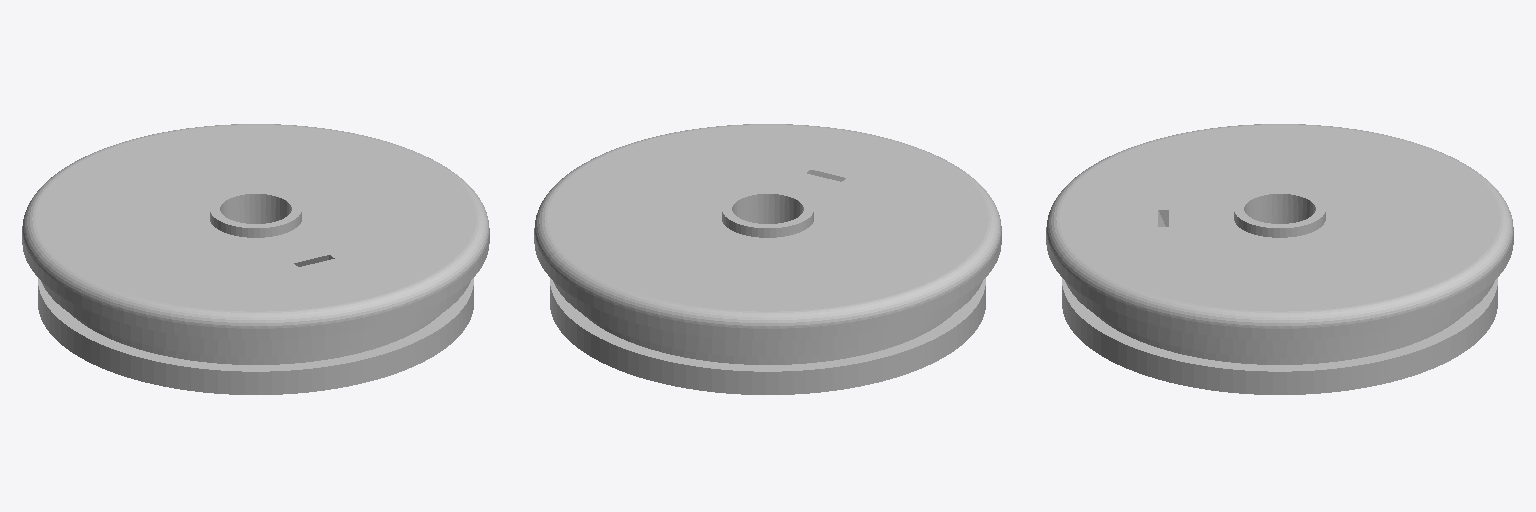
The model's file is EndCap.obj.
The picture shows the model from 3 angles: view 1: azimuth 30°, elevation 25°; view 2: azimuth 150°, elevation 25°; view 3: azimuth 270°, elevation 25°; orthographic projection.
Parts seen in each view (by area): view 1: EndCap_End_Cap_v10; view 2: EndCap_End_Cap_v10; view 3: EndCap_End_Cap_v10.
Boxes of the visible parts, x1,y1,x2,y2 form: EndCap_End_Cap_v10: [22, 124, 489, 394]; EndCap_End_Cap_v10: [534, 124, 1001, 394]; EndCap_End_Cap_v10: [1046, 124, 1513, 394].
Size of the model in its own units: 0.09 by 0.02 by 0.09.